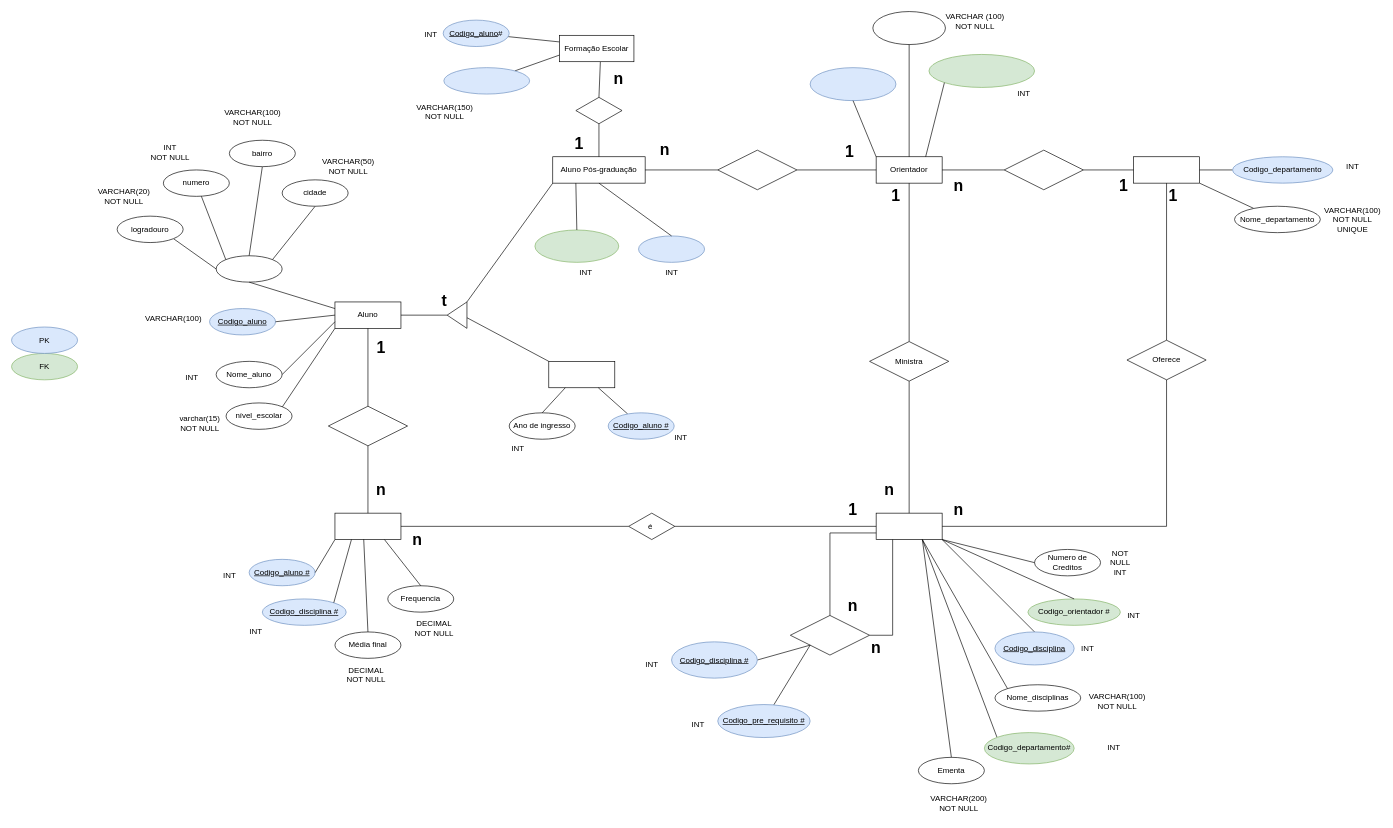
This 1393x828 diagram has some shape labels left out. The shapes that lost their labels are listed below. From the top down, each one's box as (x1, y1, x2, y2) in pixels, then its label:
(872, 11, 945, 45): Nome_orientador
(443, 67, 530, 94): Formacao escolar
(809, 67, 896, 101): Codigo_orientador
(928, 54, 1035, 87): Codigo_departamento #
(575, 97, 622, 124): possui
(717, 149, 797, 190): orienta
(1004, 149, 1083, 190): Trabalha
(1133, 156, 1200, 183): Departamento
(534, 229, 619, 262): Código_ orientador#
(638, 235, 705, 262): Codigo_aluno#
(215, 255, 282, 282): Endereço
(548, 361, 615, 388): Aluno Graduação
(328, 406, 408, 446): Cursa
(334, 512, 401, 540): disciplina_aluno
(875, 512, 942, 540): Disciplina
(790, 615, 870, 655): Pre_requisito
